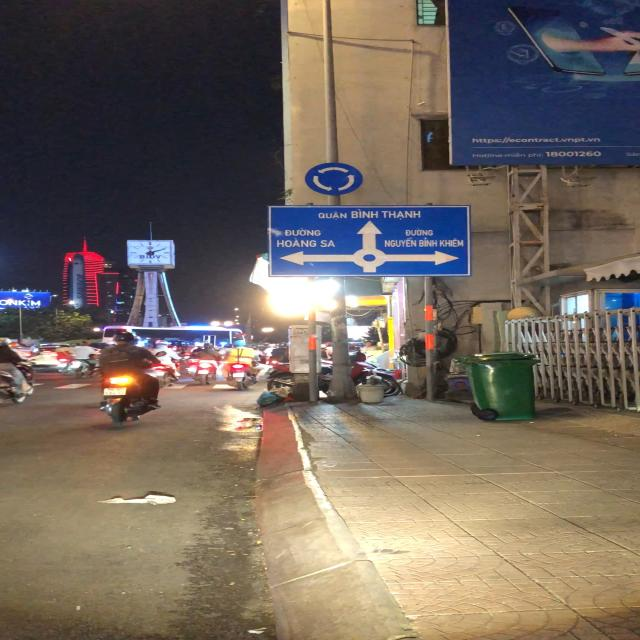Bien bao noi giao nhau chay theo vong xuyen: (302, 162, 371, 196)
